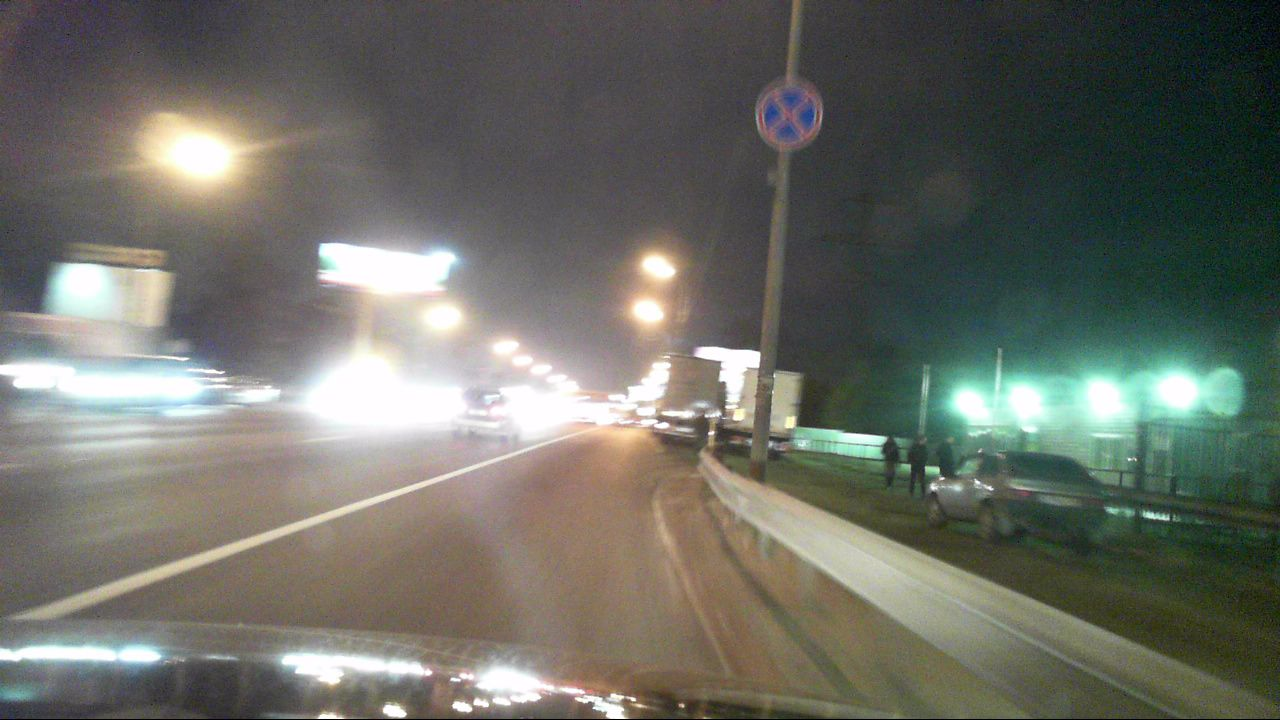No Parking: (757, 82, 823, 149)
